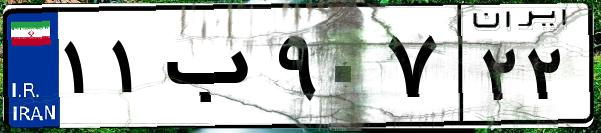0: (330, 28, 385, 110)
1: (57, 26, 110, 100), (110, 28, 158, 98)
2: (475, 38, 525, 113), (525, 38, 570, 115)
7: (385, 28, 445, 110)
9: (270, 28, 330, 110)
ب: (158, 20, 270, 120)
